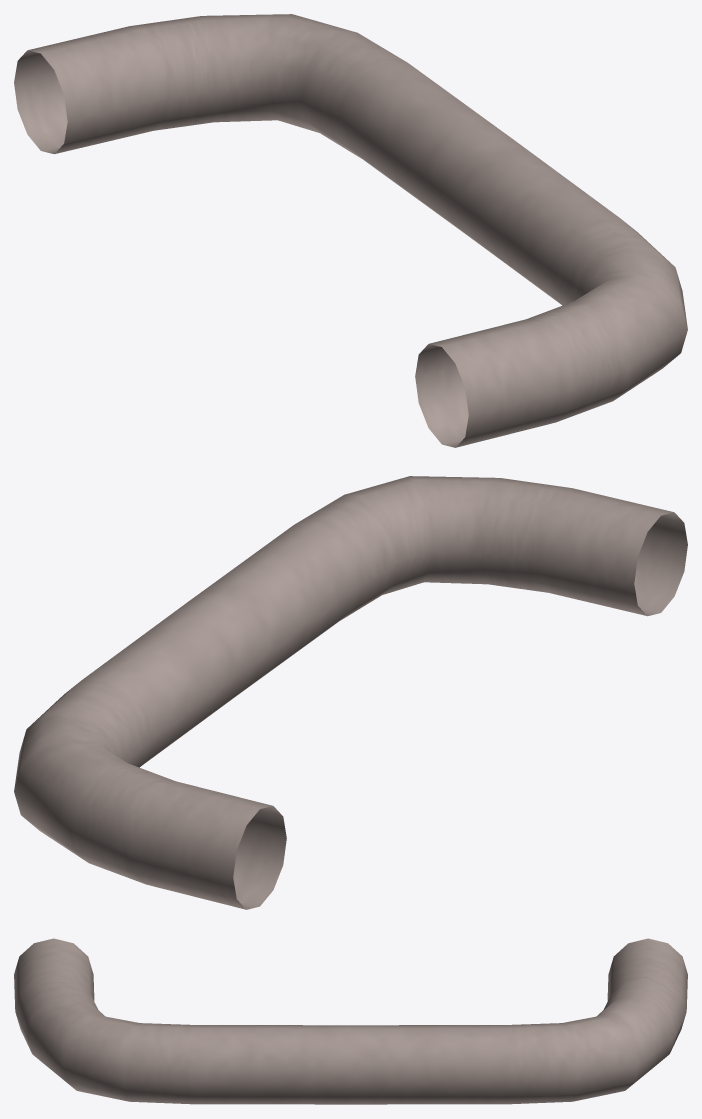
File: Radiator_pipe.fbx
3 renders of one model, top to bottom at view 1: azimuth 30°, elevation 25°; view 2: azimuth 150°, elevation 25°; view 3: azimuth 270°, elevation 25°, orthographic. The views are drawn at different scales.
Visible parts, largest first — view 1: NurbsPath.001; view 2: NurbsPath.001; view 3: NurbsPath.001.
Part boxes in pixels (left/top/right/bottom): NurbsPath.001: left=14, top=14, right=687, bottom=447; NurbsPath.001: left=14, top=476, right=687, bottom=909; NurbsPath.001: left=14, top=938, right=687, bottom=1104.
Size of the model in its own units: 4.47 by 1.4 by 11.89.
